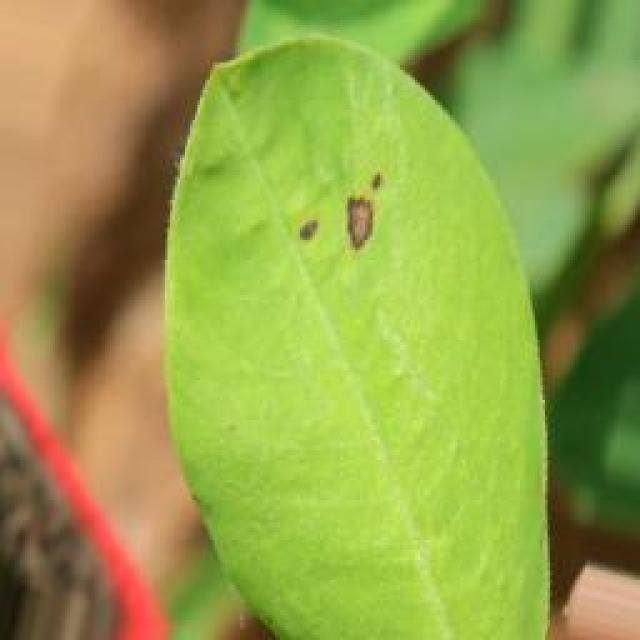Sigatoka: (267, 165, 406, 278)
